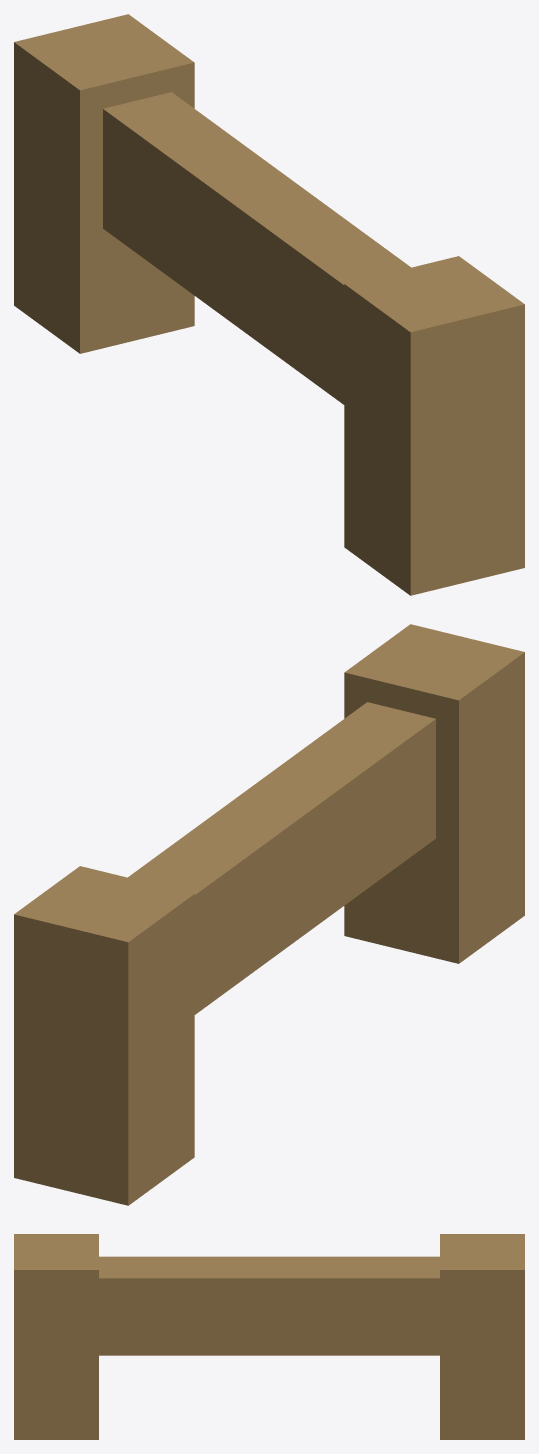
The model's file is Wood_Fence_01.fbx.
3 renders of one model, top to bottom at view 1: azimuth 30°, elevation 25°; view 2: azimuth 150°, elevation 25°; view 3: azimuth 270°, elevation 25°, orthographic. The views are drawn at different scales.
Visible parts, largest first — view 1: Mesh1_Wood_Fence Model; view 2: Mesh1_Wood_Fence Model; view 3: Mesh1_Wood_Fence Model.
Boxes of the visible parts, box(x1,y1,x2,y2) form: Mesh1_Wood_Fence Model: box(14, 14, 524, 595); Mesh1_Wood_Fence Model: box(14, 624, 524, 1205); Mesh1_Wood_Fence Model: box(14, 1234, 524, 1439).
Bounding box in the file's own units: 0.5 × 1.1 × 3.
